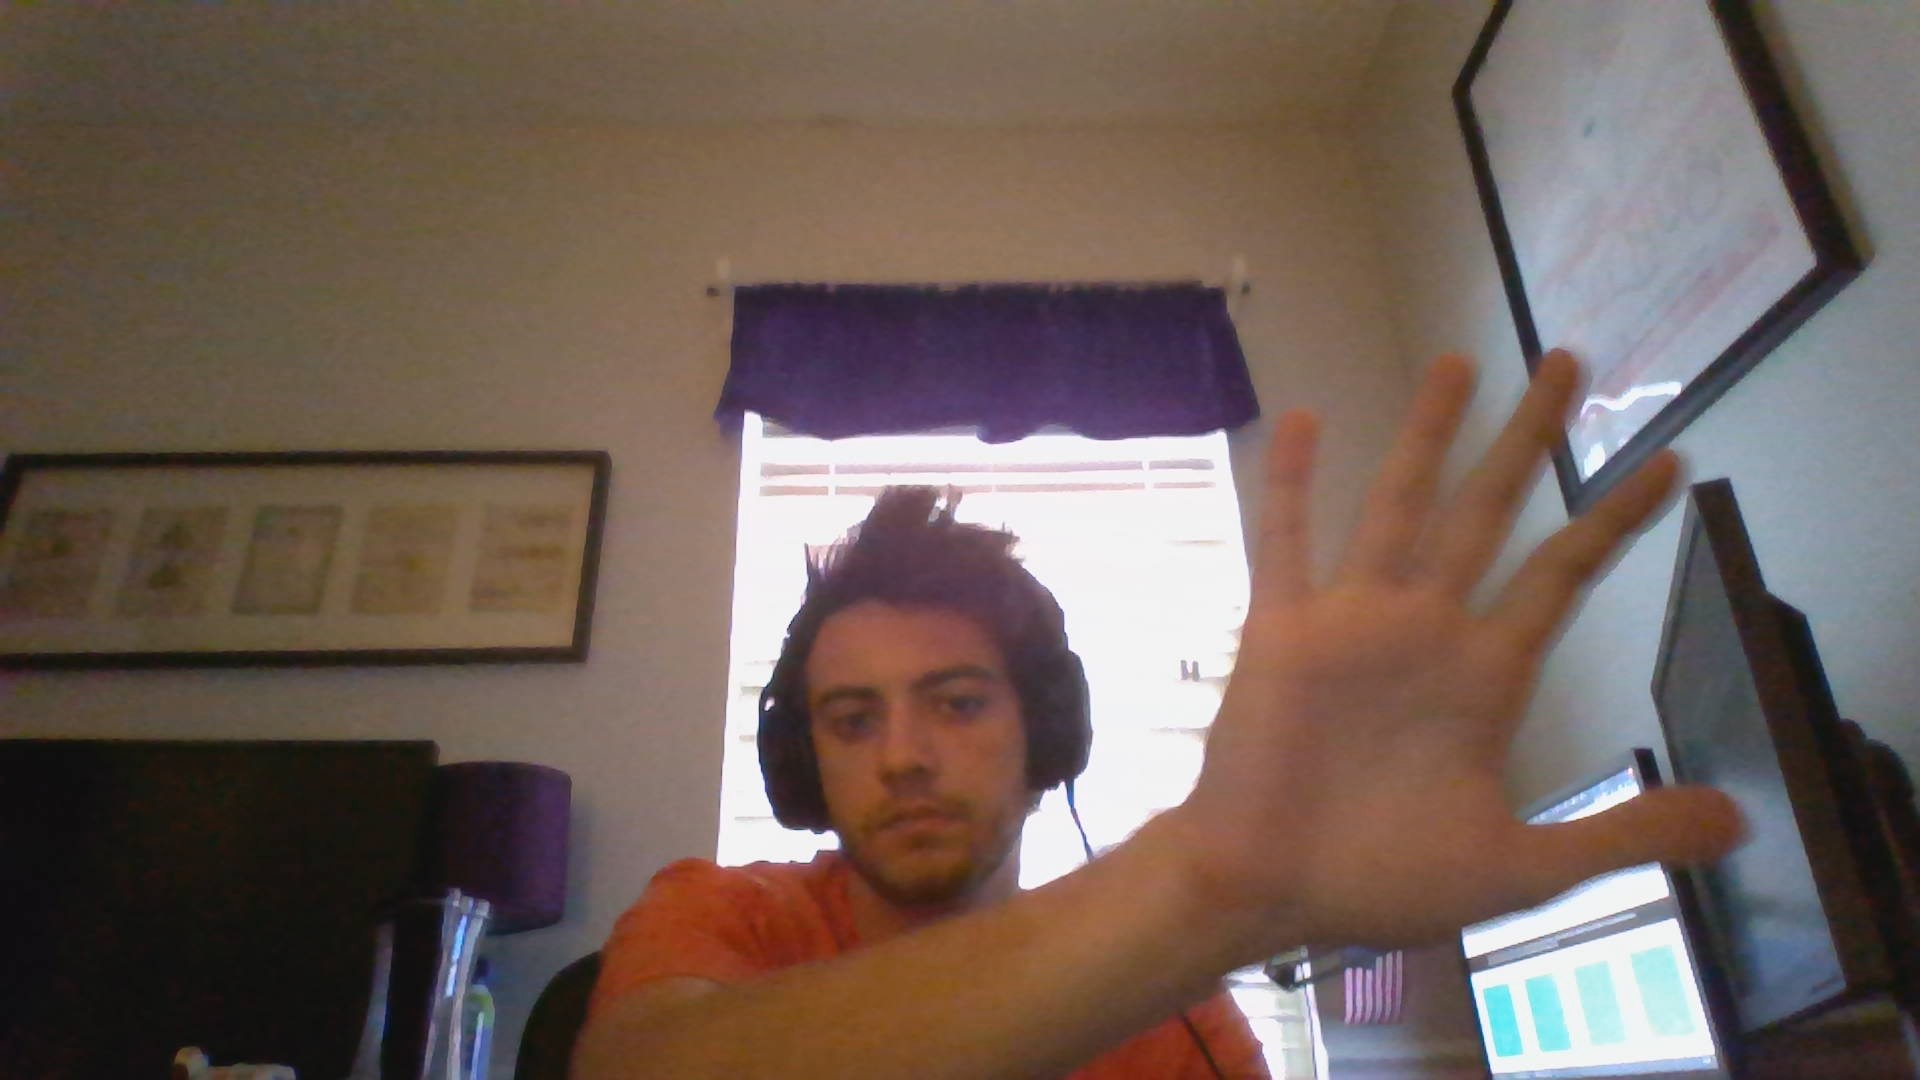Right Palm Up: (1168, 344, 1749, 955)
